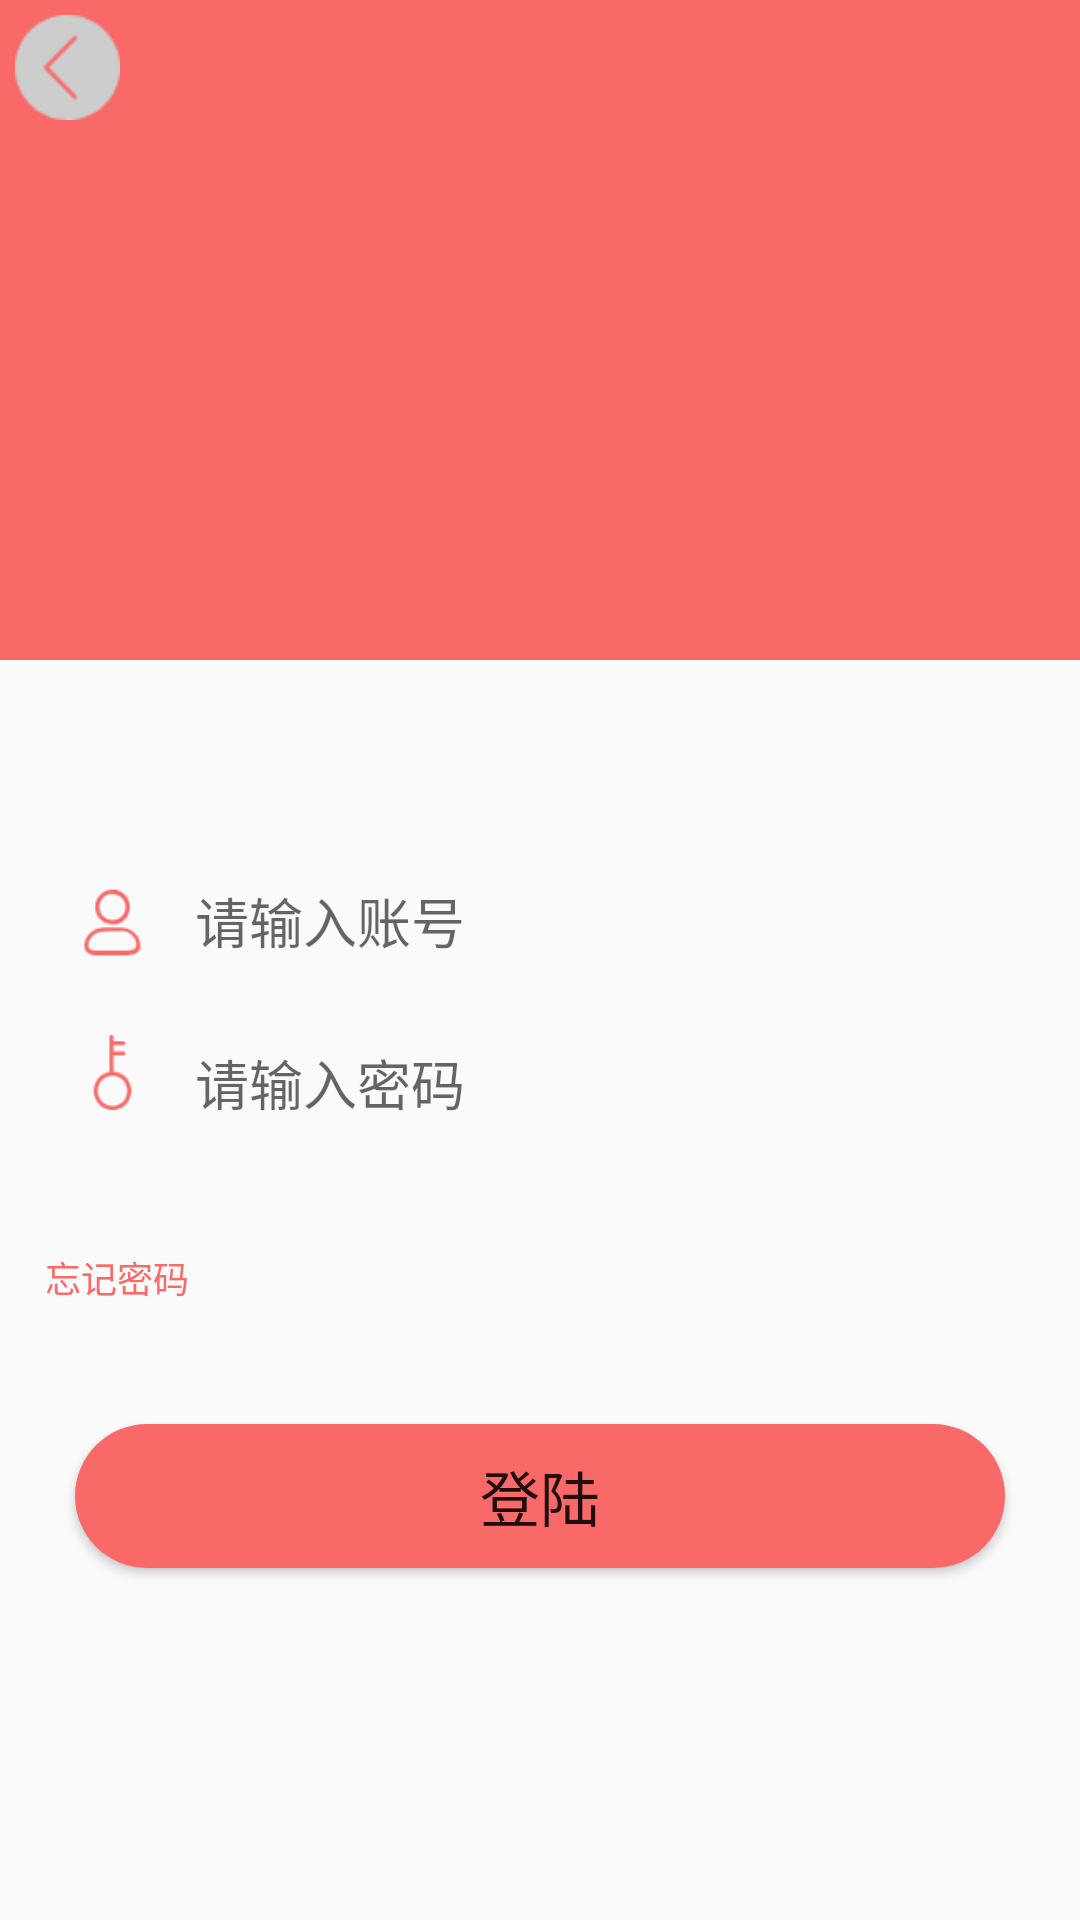

Named icons in this screenshot (1080px×1920px) and their bounding boxes, [x1,y1,x2,y2]:
account: [84,889,141,956]
back: [15,15,120,120]
password: [93,1035,132,1110]
